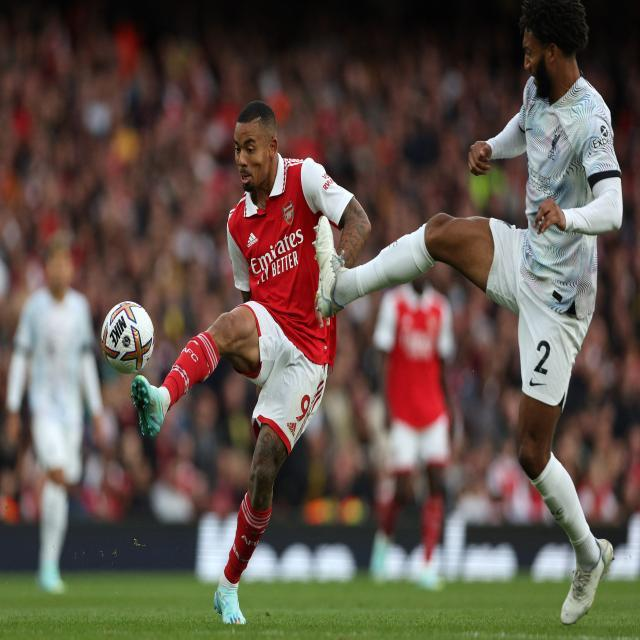Adidas: (286, 419, 299, 437), (247, 232, 258, 247)
Emirates: (250, 229, 304, 275)
Nike: (530, 377, 549, 388)
